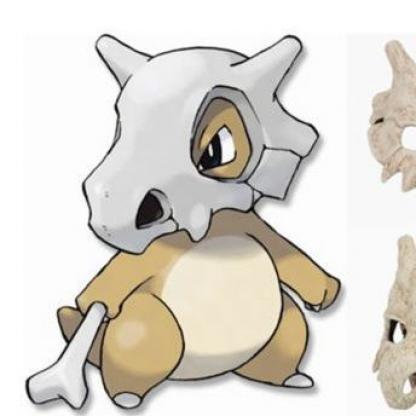Cubone: (54, 19, 347, 405)
